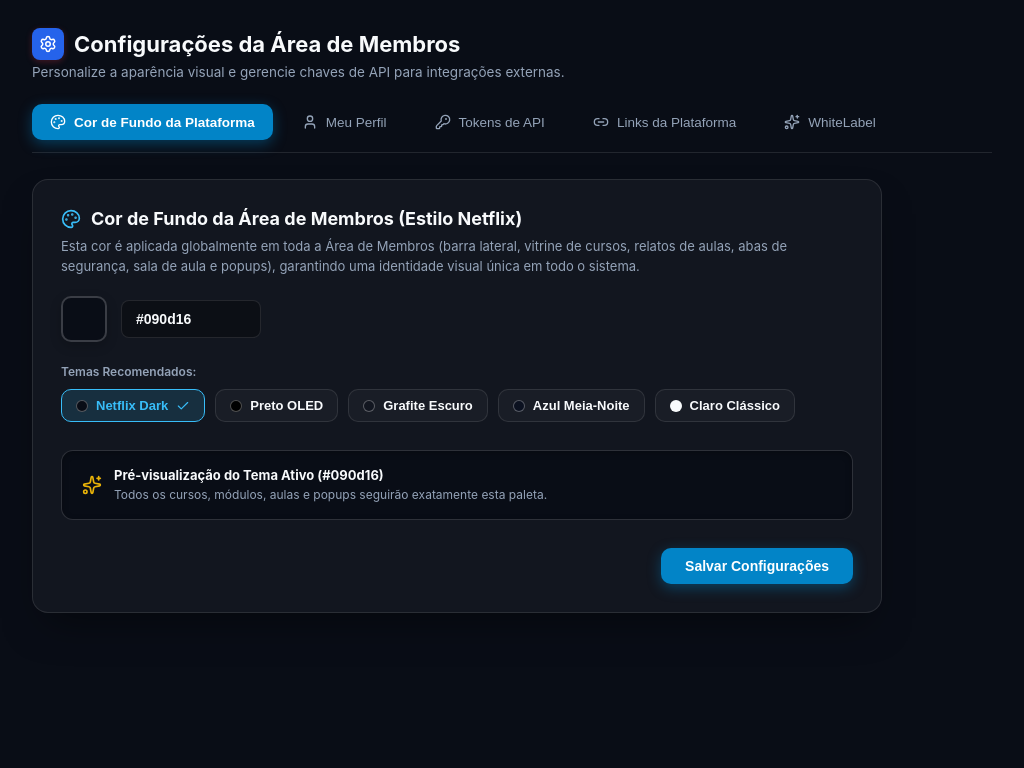
Scenario: PlatformApiTokensTab and PlatformSettings Tabs Integration › switches between Appearance and API Tokens tabs
This screenshot has width=1024, height=768.
expect the element with test id "platform-appearance-tab" is shown: met, box [32,179,882,613]
expect the heading "Cor de Fundo da Área de Membros (Estilo Netflix)" is shown: met, box [91,208,522,229]
// Clica na aba de Tokens de API
Click the button with test id "tab-api-tokens-btn" at (490, 122), box [416,104,564,140]
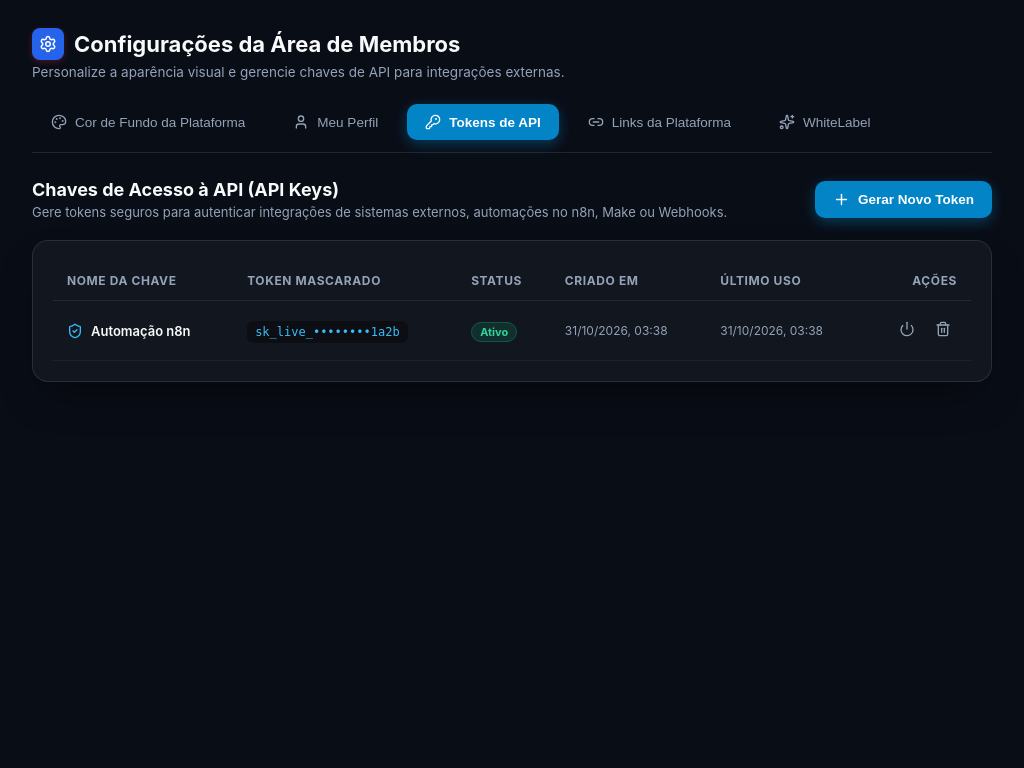
expect the element with test id "platform-api-tokens-tab" is shown: met, box [32,179,992,382]
expect the heading "Chaves de Acesso à API (API Keys)" is shown: met, box [32,179,339,200]
expect the text "Automação n8n" is shown: met, box [91,322,191,338]
